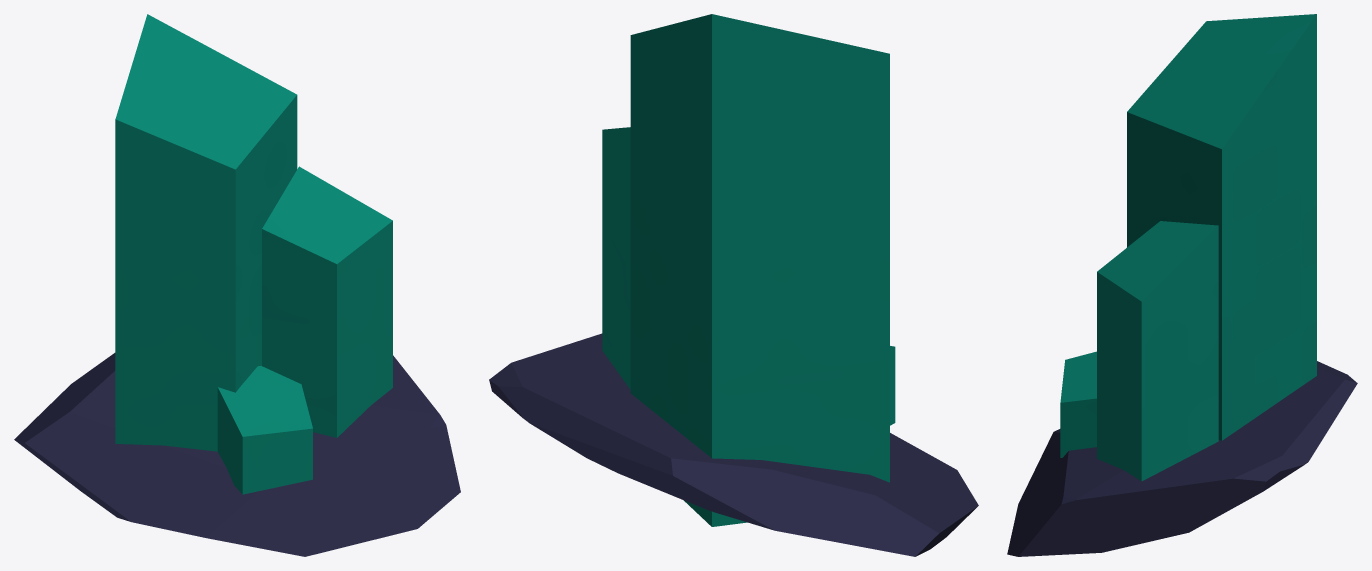
3 views of the same model, side by side, from view 1: azimuth 30°, elevation 25°; view 2: azimuth 150°, elevation 25°; view 3: azimuth 270°, elevation 25° (orthographic). The views are drawn at different scales.
Parts seen in each view (by area): view 1: Nó 7; view 2: Nó 7; view 3: Nó 7.
Part boxes in pixels (x1,y1,x2,y2): Nó 7: [14, 14, 460, 556]; Nó 7: [489, 14, 978, 556]; Nó 7: [1007, 14, 1357, 556].
Size of the model in its own units: 121 by 151 by 100.
Materials: 2 (1 with a texture image).
